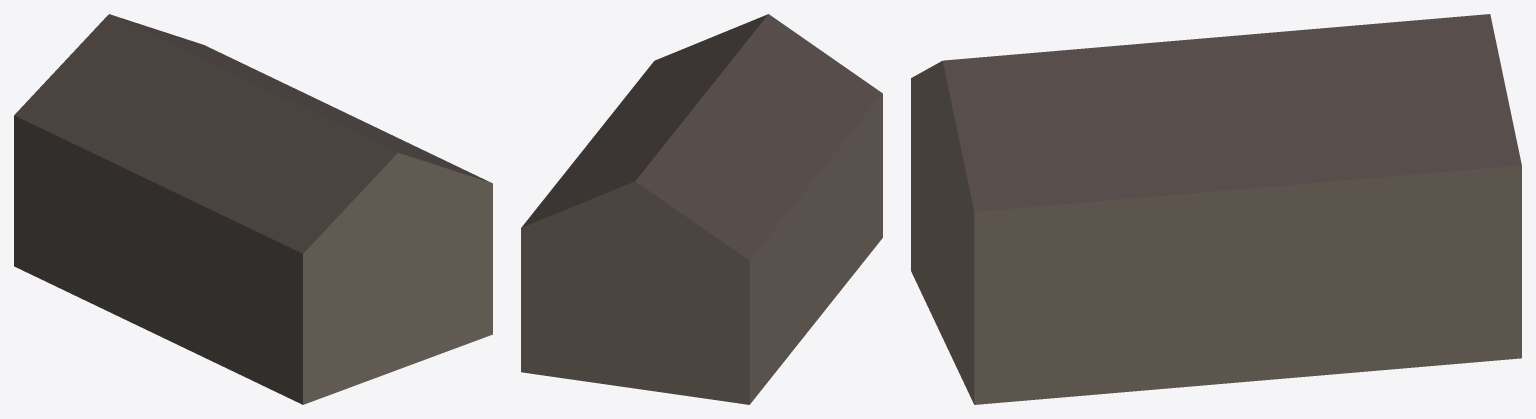
3 views of the same model, side by side, from view 1: azimuth 30°, elevation 25°; view 2: azimuth 150°, elevation 25°; view 3: azimuth 270°, elevation 25° (orthographic). The views are drawn at different scales.
Visible parts, largest first — view 1: HP-w293398933; view 2: HP-w293398933; view 3: HP-w293398933.
Part boxes in pixels (<box>): HP-w293398933: <box>14,14,492,404</box>; HP-w293398933: <box>521,14,882,404</box>; HP-w293398933: <box>911,14,1521,404</box>.
Bounding box in the file's own units: 18.04 × 12.94 × 25.81.
